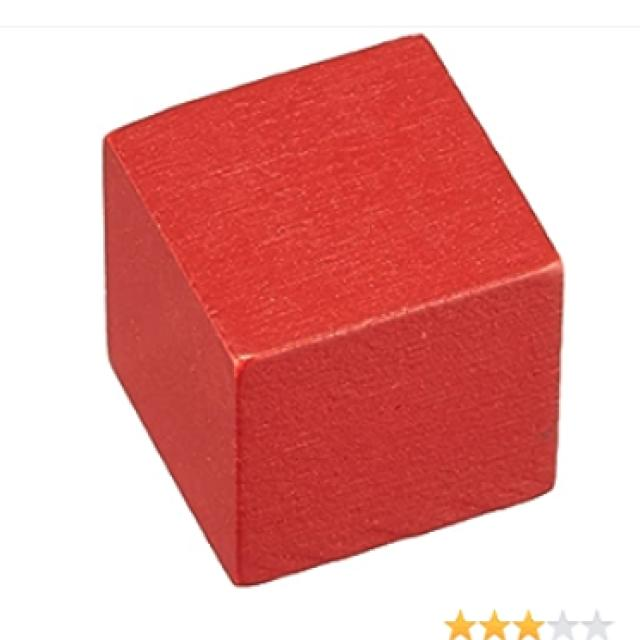red cube: (102, 29, 566, 598)
